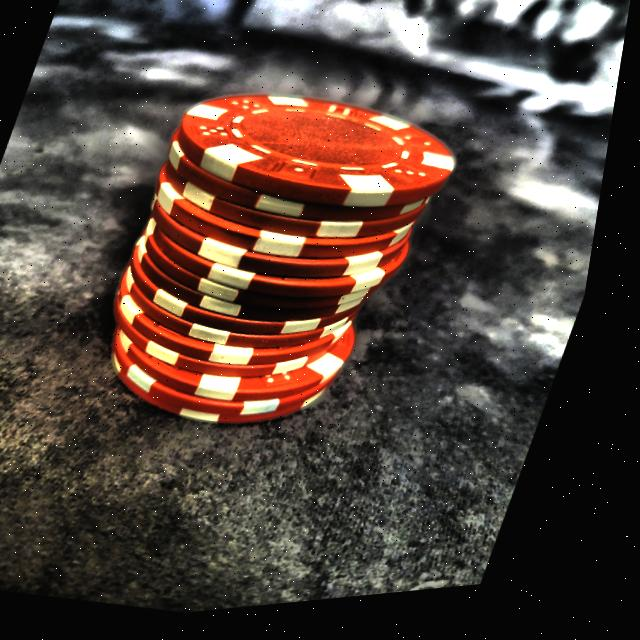Chip: (36, 22, 518, 475)
